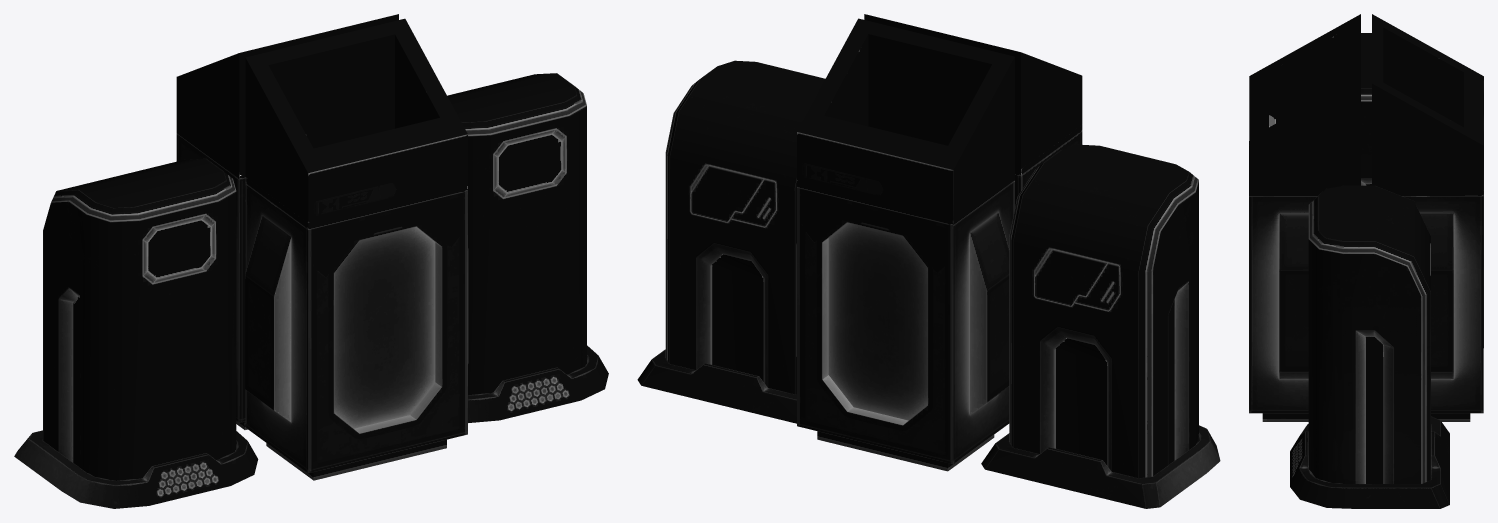
The model's file is propDustbin.glb.
3 renders of one model, left to right at view 1: azimuth 30°, elevation 25°; view 2: azimuth 150°, elevation 25°; view 3: azimuth 270°, elevation 25°, orthographic. The views are drawn at different scales.
Visible parts, largest first — view 1: PF_Bin (1).002_M_Bin_0, SM_StreetBin.009_M_StreetBin.001_0, SM_StreetBin.010_M_StreetBin.001_0, propDustbin; view 2: propDustbin, SM_StreetBin.009_M_StreetBin.001_0, SM_StreetBin.010_M_StreetBin.001_0, PF_Bin (1).002_M_Bin_0; view 3: SM_StreetBin.010_M_StreetBin.001_0, PF_Bin (1).002_M_Bin_0, propDustbin, SM_StreetBin.009_M_StreetBin.001_0.
Boxes of the visible parts, <box> form: PF_Bin (1).002_M_Bin_0: <box>245,18,468,480</box>; SM_StreetBin.009_M_StreetBin.001_0: <box>14,158,258,508</box>; SM_StreetBin.010_M_StreetBin.001_0: <box>447,73,608,422</box>; propDustbin: <box>176,14,398,429</box>; propDustbin: <box>796,18,1014,471</box>; SM_StreetBin.009_M_StreetBin.001_0: <box>981,144,1220,508</box>; SM_StreetBin.010_M_StreetBin.001_0: <box>637,60,825,423</box>; PF_Bin (1).002_M_Bin_0: <box>864,14,1082,206</box>; SM_StreetBin.010_M_StreetBin.001_0: <box>1290,185,1449,508</box>; PF_Bin (1).002_M_Bin_0: <box>1249,14,1360,421</box>; propDustbin: <box>1372,14,1483,421</box>; SM_StreetBin.009_M_StreetBin.001_0: <box>1361,33,1371,185</box>.
Bounding box in the file's own units: 2.92 × 2.02 × 1.25.
Materials: 2 (2 with a texture image).
